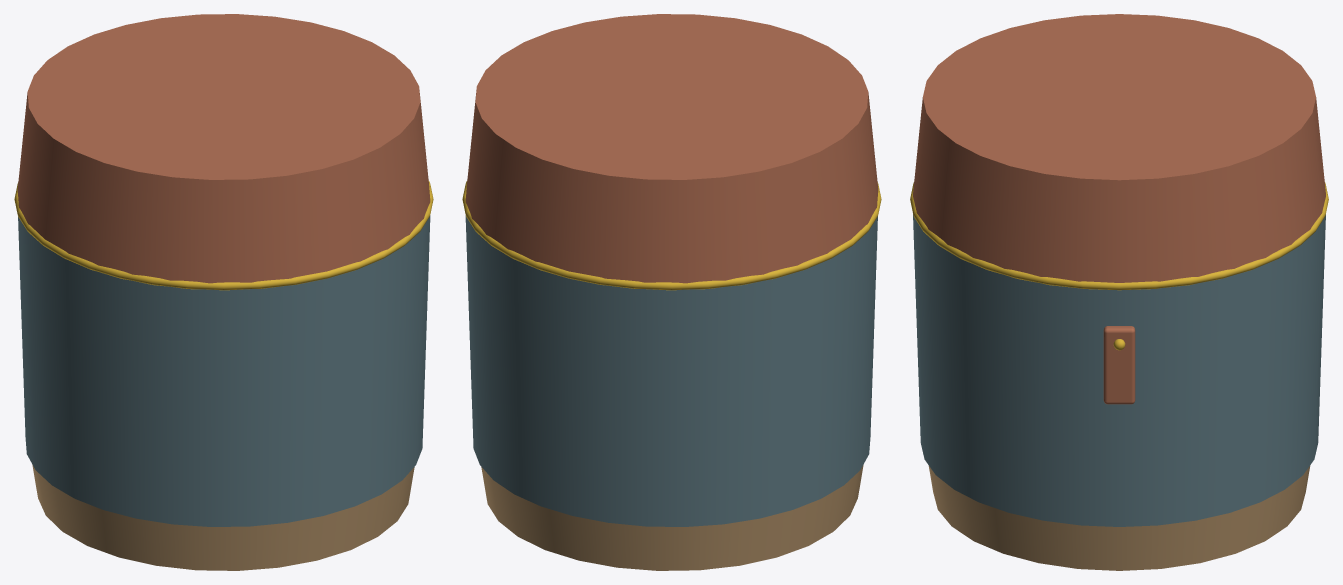
File: campus-pouf-terracotta.glb
3 renders of one model, left to right at view 1: azimuth 30°, elevation 25°; view 2: azimuth 150°, elevation 25°; view 3: azimuth 270°, elevation 25°, orthographic.
Bounding box in the file's own units: 0.4394 × 0.4422 × 0.4248.
